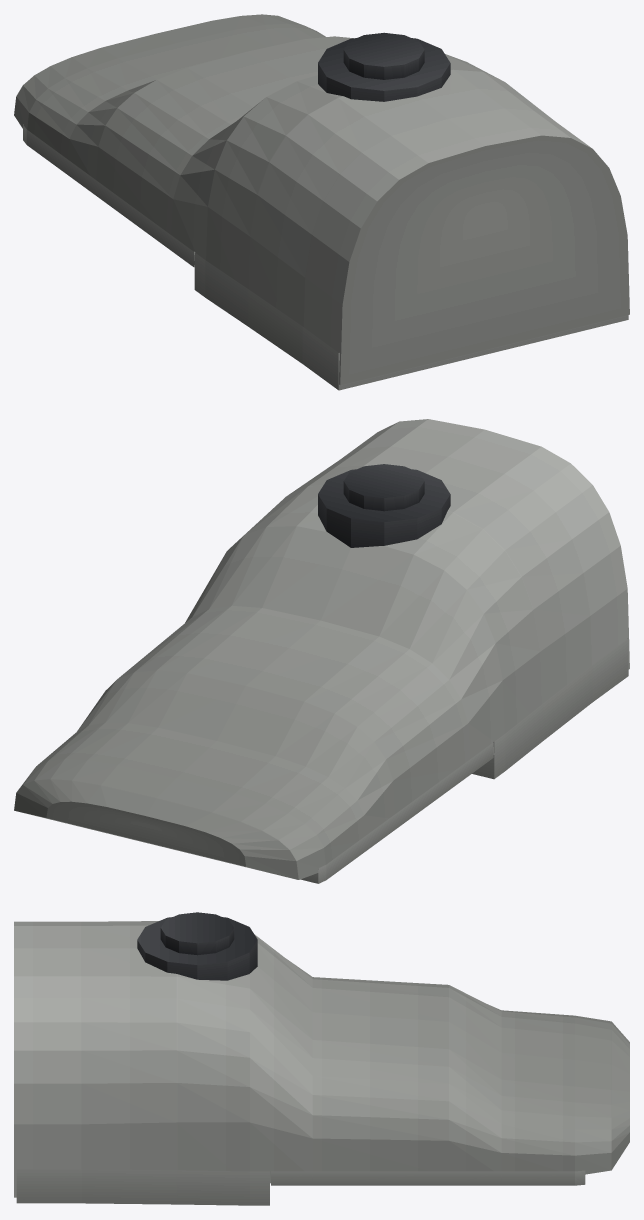
File: streetlight_ltgcmsn.obj
3 renders of one model, top to bottom at view 1: azimuth 30°, elevation 25°; view 2: azimuth 150°, elevation 25°; view 3: azimuth 270°, elevation 25°, orthographic. The views are drawn at different scales.
Visible parts, largest first — view 1: fixture; view 2: fixture; view 3: fixture.
Boxes of the visible parts, left/top/right/bottom form: fixture: left=14, top=14, right=629, bottom=390; fixture: left=14, top=419, right=629, bottom=883; fixture: left=14, top=912, right=629, bottom=1205.
Bounding box in the file's own units: 0.375 × 0.278 × 0.7344.
